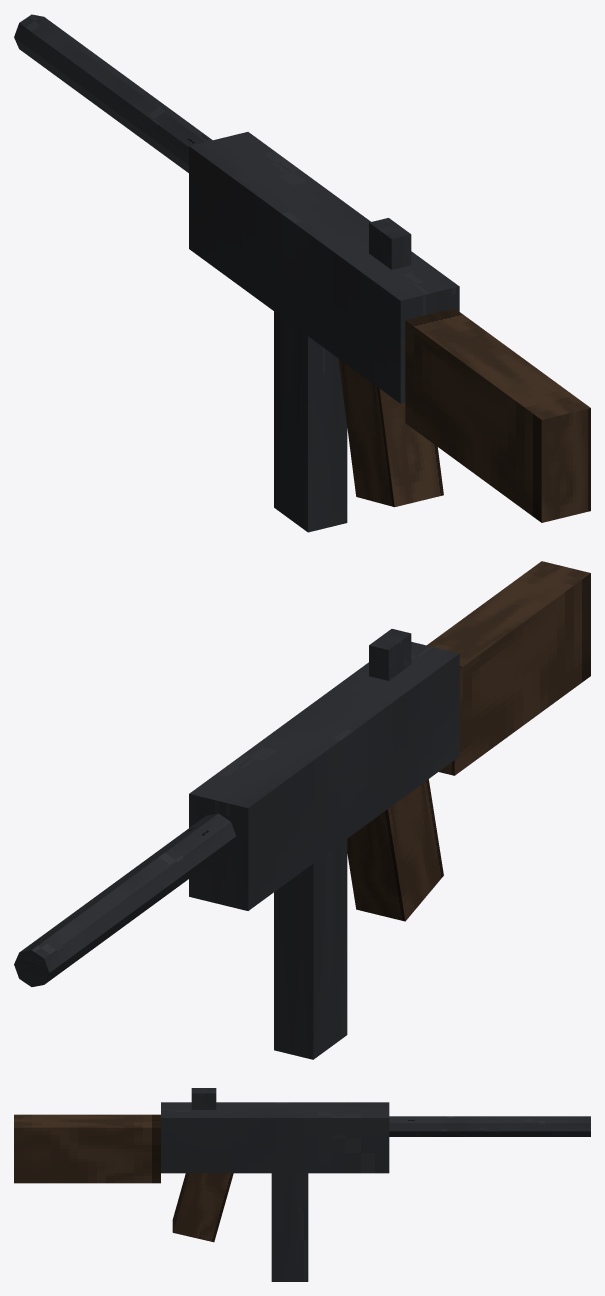
File: gun_rifle.glb
The picture shows the model from 3 angles, top to bottom: view 1: azimuth 30°, elevation 25°; view 2: azimuth 150°, elevation 25°; view 3: azimuth 270°, elevation 25°; orthographic projection. The views are drawn at different scales.
Visible parts, largest first — view 1: Gun_rifle; view 2: Gun_rifle; view 3: Gun_rifle.
Boxes of the visible parts, x1=… form: Gun_rifle: x1=14, y1=14, x2=590, y2=532; Gun_rifle: x1=14, y1=561, x2=590, y2=1059; Gun_rifle: x1=14, y1=1088, x2=590, y2=1281.
Bounding box in the file's own units: 0.06 × 0.335 × 0.941.
2 materials, 2 textured.
